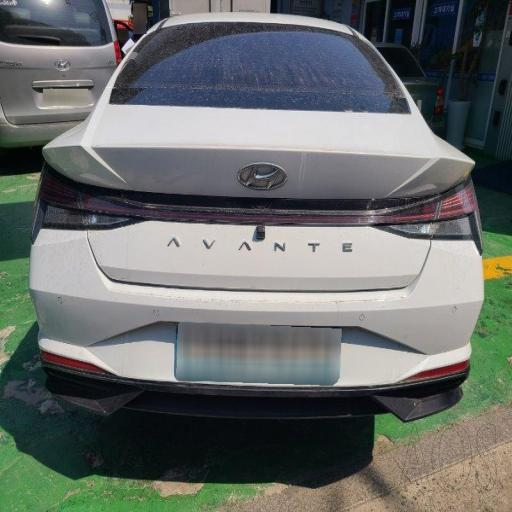dent: (48, 83, 489, 287)
